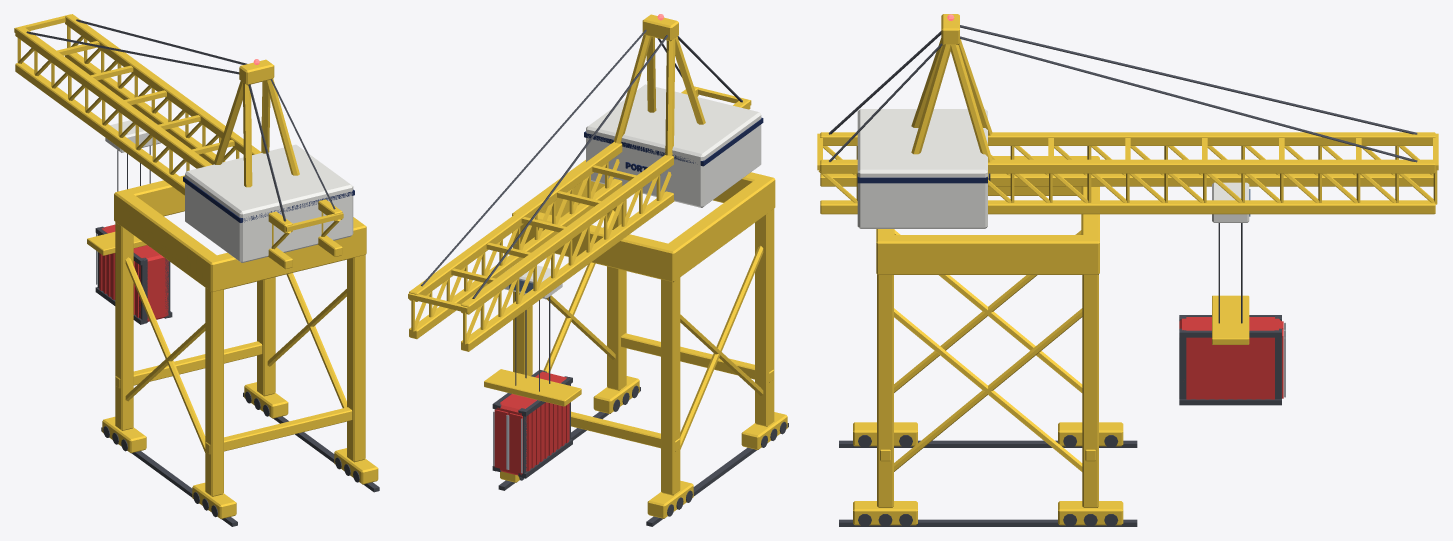
The model's file is CargoCrane.fbx.
3 renders of one model, left to right at view 1: azimuth 30°, elevation 25°; view 2: azimuth 150°, elevation 25°; view 3: azimuth 270°, elevation 25°, orthographic. The views are drawn at different scales.
Parts seen in each view (by area): view 1: CargoCrane_Yellow, CargoCrane_White, CargoCrane_DarkMetal, CargoCrane_Red, CargoCrane_Navy; view 2: CargoCrane_Yellow, CargoCrane_White, CargoCrane_DarkMetal, CargoCrane_Red, CargoCrane_Navy; view 3: CargoCrane_Yellow, CargoCrane_White, CargoCrane_DarkMetal, CargoCrane_Red, CargoCrane_Navy.
Part boxes in pixels (x1,y1,x2,y2): CargoCrane_Yellow: [14, 14, 378, 518]; CargoCrane_White: [105, 120, 353, 262]; CargoCrane_DarkMetal: [26, 19, 379, 526]; CargoCrane_Red: [99, 224, 168, 321]; CargoCrane_Navy: [183, 176, 354, 222]; CargoCrane_Yellow: [408, 14, 787, 518]; CargoCrane_White: [504, 84, 761, 299]; CargoCrane_DarkMetal: [421, 29, 788, 526]; CargoCrane_Red: [494, 371, 569, 475]; CargoCrane_Navy: [584, 117, 763, 172]; CargoCrane_Yellow: [817, 14, 1438, 525]; CargoCrane_White: [857, 109, 1249, 228]; CargoCrane_DarkMetal: [828, 25, 1417, 526]; CargoCrane_Red: [1179, 317, 1283, 399]; CargoCrane_Navy: [857, 173, 990, 183].
Size of the model in its own units: 22.6 by 55.8 by 66.6.
